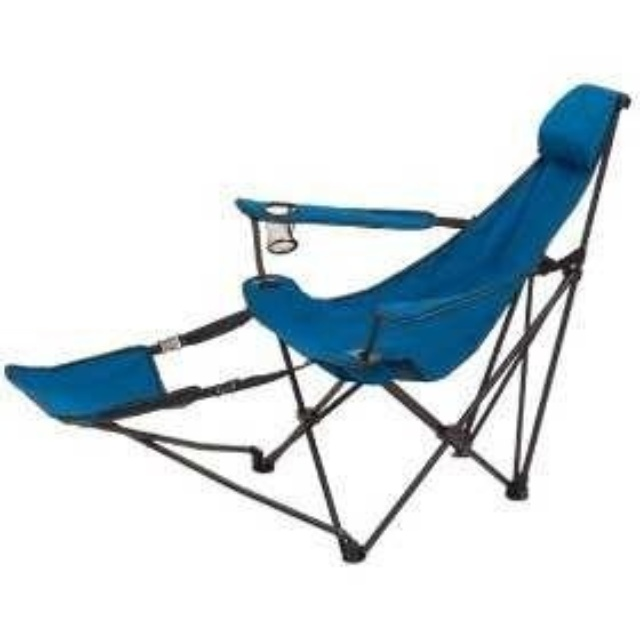obstacle: (5, 85, 629, 560)
